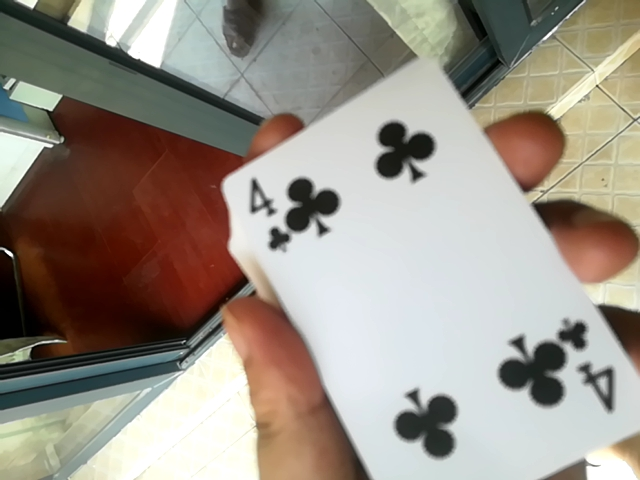mh 4: (214, 9, 635, 478)
